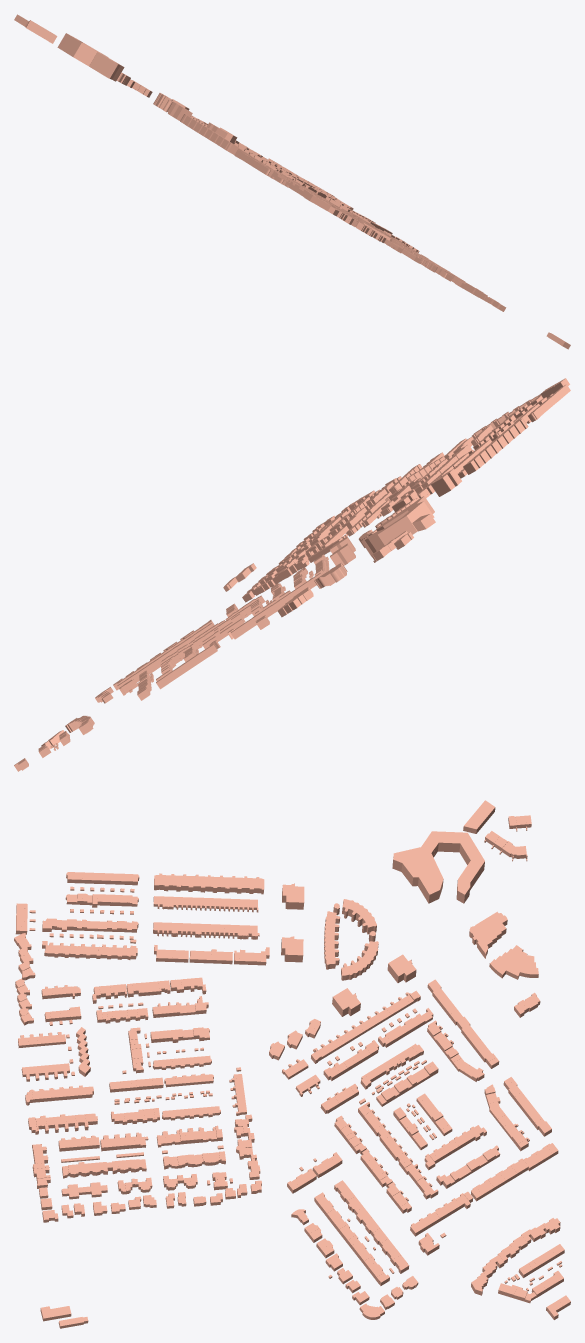
3 views of the same model, one above another, from view 1: azimuth 30°, elevation 25°; view 2: azimuth 150°, elevation 25°; view 3: azimuth 270°, elevation 25° (orthographic). The views are drawn at different scales.
Size of the model in its own units: 525 by 396 by 602.
